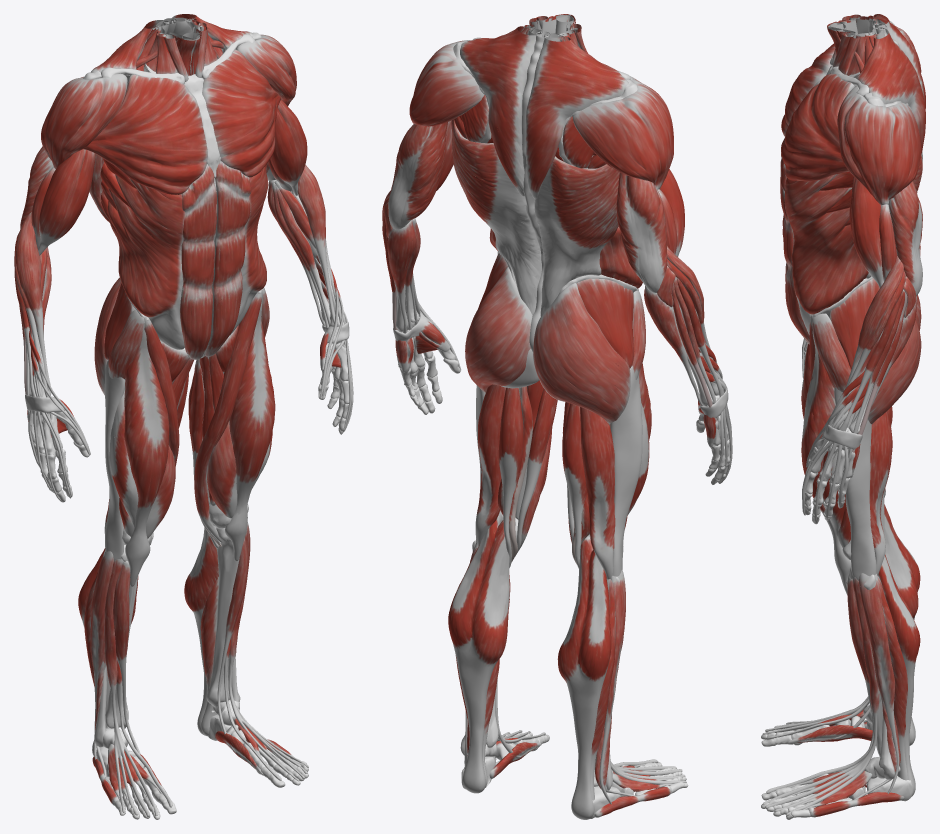
Rendered from diego-training.glb.
The picture shows the model from 3 angles, left to right: view 1: azimuth 30°, elevation 25°; view 2: azimuth 150°, elevation 25°; view 3: azimuth 270°, elevation 25°; orthographic projection. The views are drawn at different scales.
Visible parts, largest first — view 1: defaultMat_3, defaultMat_6, material_0, defaultMat_2, defaultMat_0, defaultMat, defaultMat_11, defaultMat_10, defaultMat_1, defaultMat_12, defaultMat_8, defaultMat_5 (+2 smaller); view 2: defaultMat_8, defaultMat_10, defaultMat_12, defaultMat_9, defaultMat_11, defaultMat, defaultMat_0, material_0, material_1, defaultMat_2, defaultMat_1, defaultMat_4 (+3 smaller); view 3: defaultMat_3, defaultMat_2, material_0, defaultMat_0, defaultMat_11, defaultMat_10, defaultMat, defaultMat_12, defaultMat_8, defaultMat_6, material_1, defaultMat_9 (+2 smaller).
Boxes of the visible parts, <box> form: defaultMat_3: <box>83,49,280,359</box>; defaultMat_6: <box>109,289,275,586</box>; material_0: <box>27,32,349,819</box>; defaultMat_2: <box>90,522,308,816</box>; defaultMat_0: <box>14,165,353,501</box>; defaultMat: <box>20,100,307,255</box>; defaultMat_11: <box>41,34,296,169</box>; defaultMat_10: <box>78,497,218,755</box>; defaultMat_1: <box>160,325,238,543</box>; defaultMat_12: <box>94,277,269,395</box>; defaultMat_8: <box>89,14,252,237</box>; defaultMat_5: <box>125,17,225,81</box>; defaultMat_8: <box>451,26,628,316</box>; defaultMat_10: <box>448,518,616,819</box>; defaultMat_12: <box>465,253,645,423</box>; defaultMat_9: <box>475,384,615,579</box>; defaultMat_11: <box>409,40,673,189</box>; defaultMat: <box>388,120,684,292</box>; defaultMat_0: <box>382,190,732,482</box>; material_0: <box>392,37,730,818</box>; material_1: <box>393,15,728,576</box>; defaultMat_2: <box>464,542,686,817</box>; defaultMat_1: <box>515,380,589,554</box>; defaultMat_4: <box>395,301,728,447</box>; defaultMat_3: <box>780,43,868,344</box>; defaultMat_2: <box>762,573,904,817</box>; material_0: <box>761,16,913,819</box>; defaultMat_0: <box>802,256,917,523</box>; defaultMat_11: <box>837,16,921,205</box>; defaultMat_10: <box>877,504,920,796</box>; defaultMat: <box>849,152,922,296</box>; defaultMat_12: <box>812,278,921,424</box>; defaultMat_8: <box>819,14,925,278</box>; defaultMat_6: <box>801,314,851,595</box>; material_1: <box>822,22,902,580</box>; defaultMat_9: <box>869,406,892,575</box>.
Bounding box in the file's own units: 0.7211 × 1.62 × 0.3226.
15 materials, 13 textured.
